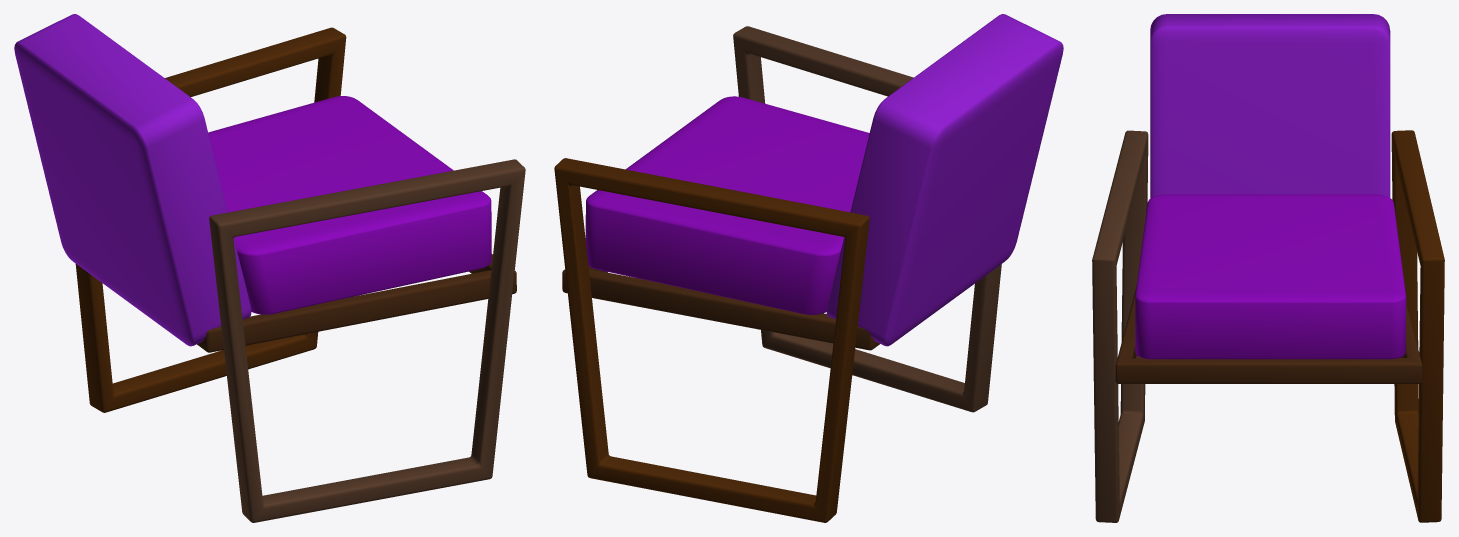
File: FancyChair1.fbx
3 renders of one model, left to right at view 1: azimuth 30°, elevation 25°; view 2: azimuth 150°, elevation 25°; view 3: azimuth 270°, elevation 25°, orthographic. The views are drawn at different scales.
Visible parts, largest first — view 1: Cube, Cube.001, Plane, Plane.002, Plane.001; view 2: Cube, Cube.001, Plane.002, Plane, Plane.001; view 3: Cube.001, Cube, Plane, Plane.002, Plane.001.
Part boxes in pixels (bbox=[...]): Cube: bbox=[14, 14, 251, 346]; Cube.001: bbox=[208, 96, 491, 314]; Plane: bbox=[209, 159, 525, 522]; Plane.002: bbox=[75, 27, 346, 412]; Plane.001: bbox=[197, 254, 516, 352]; Cube: bbox=[826, 14, 1063, 346]; Cube.001: bbox=[585, 96, 869, 314]; Plane.002: bbox=[554, 158, 869, 522]; Plane: bbox=[733, 26, 1001, 412]; Plane.001: bbox=[562, 266, 879, 350]; Cube.001: bbox=[1135, 194, 1406, 359]; Cube: bbox=[1150, 14, 1390, 198]; Plane: bbox=[1092, 130, 1148, 522]; Plane.002: bbox=[1391, 130, 1444, 522]; Plane.001: bbox=[1115, 286, 1422, 383].
Bounding box in the file's own units: 244 × 273 × 229.
